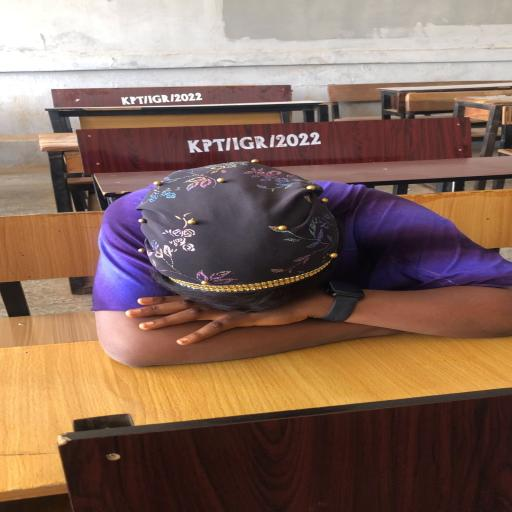Sleeping: (2, 166, 510, 390), (0, 158, 512, 366), (89, 161, 512, 368)
